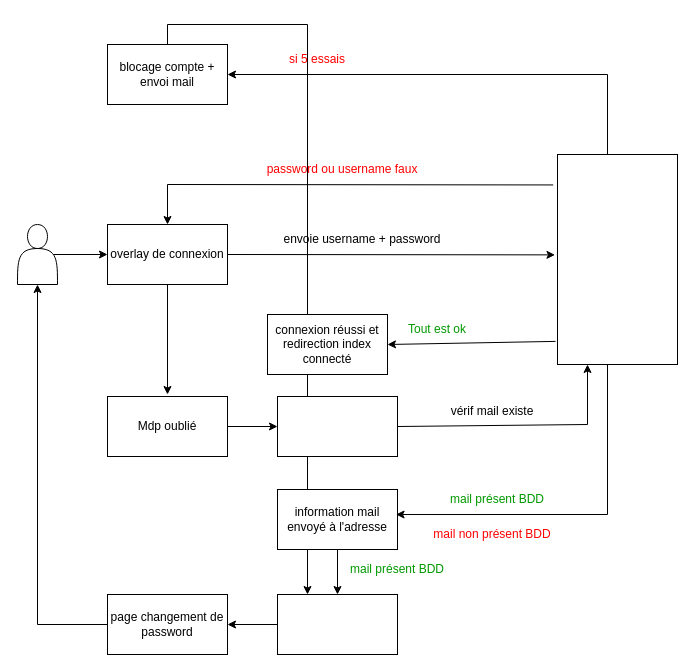
The diagram is 695 pixels wide and 672 high, and some of its shapes have lost their labels. The shapes that lost their labels are listed below. From the top down, each one's centre as x and y in pixels, then its label:
At (617,259): "BackEnd".
At (337,426): "saisie mail".
At (337,624): "envoie mail".
